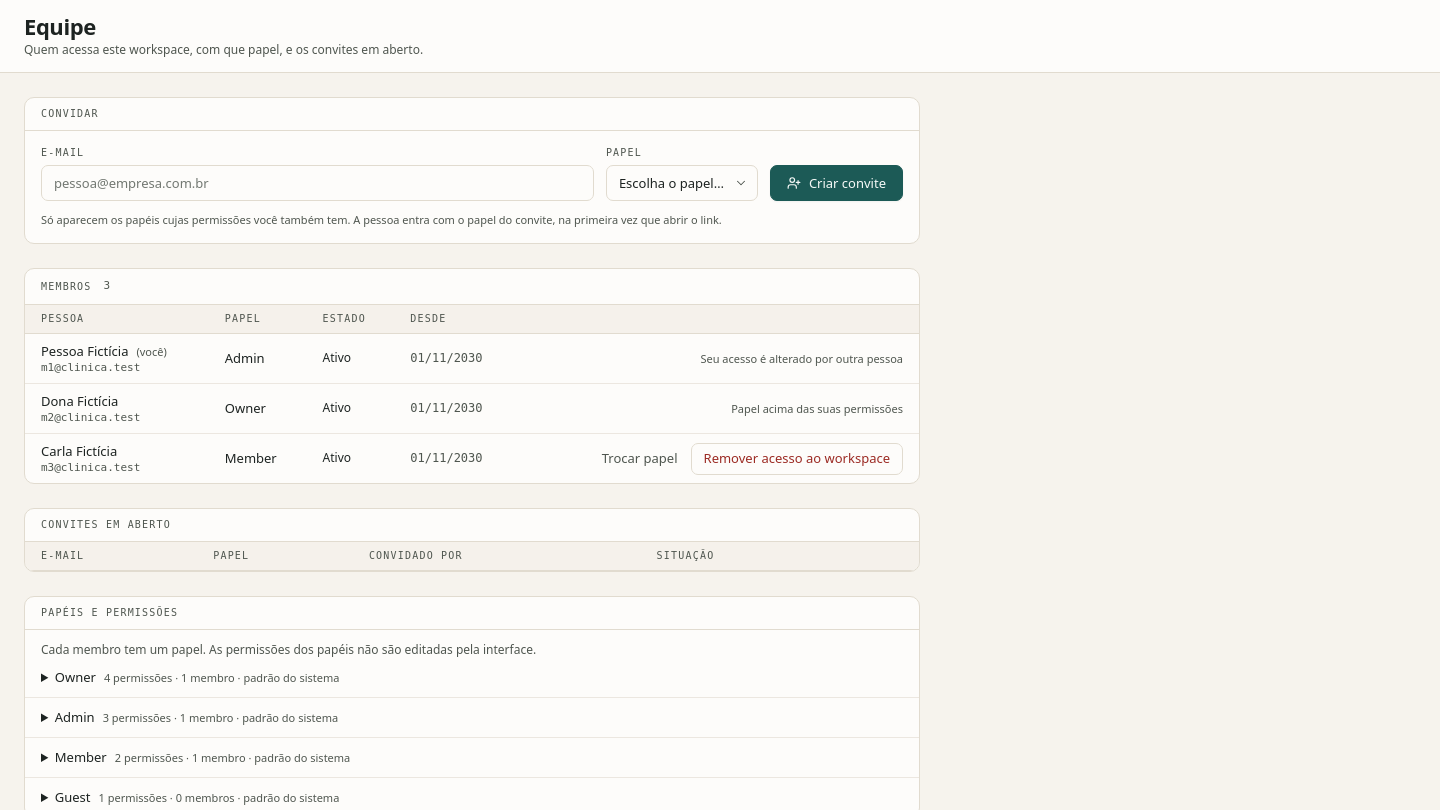
quem administra a equipe › trocar papel mostra o que muda antes de confirmar e manda só o papel escolhido
Click the button with aria-label "Trocar o papel de Carla Fictícia": x=640, y=459 top-left (589, 443), bottom-right (690, 475)
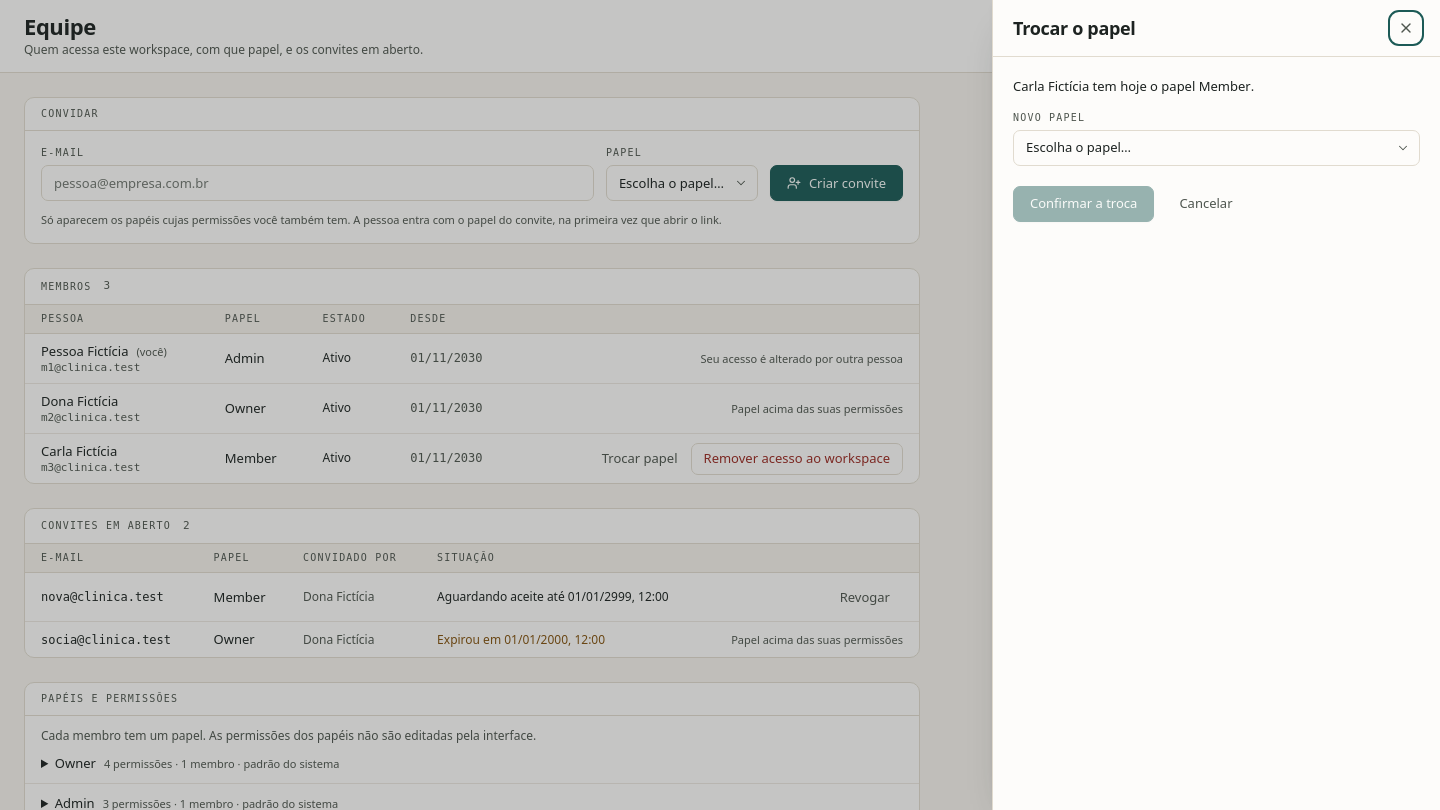
Now the button "Confirmar a troca" is disabled, box top-left (1013, 186), bottom-right (1154, 222)
Select "Guest" in the dropdown labelled "Novo papel": x=1216, y=148 top-left (1013, 130), bottom-right (1420, 166)
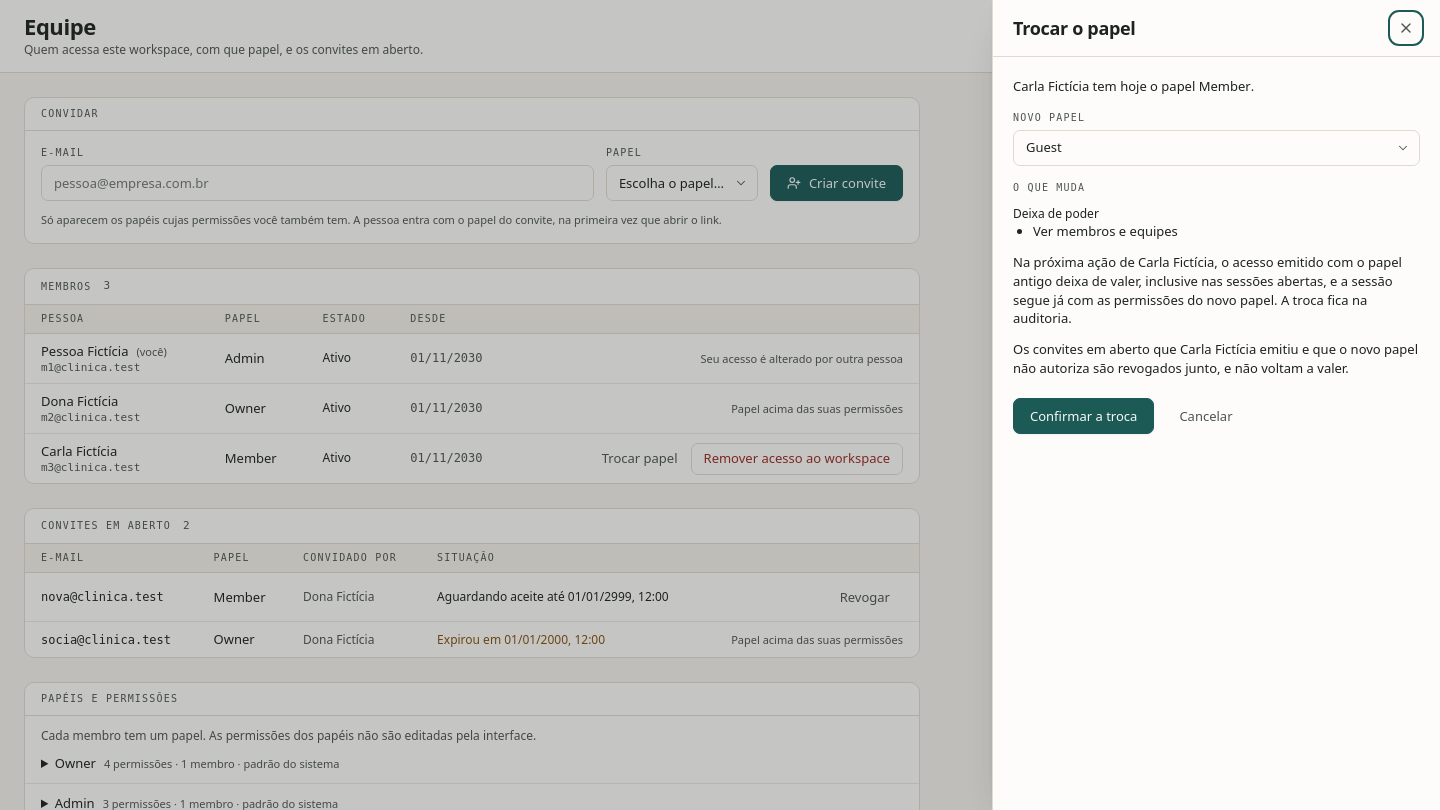
Now the text "Deixa de poder" is shown, box top-left (1013, 205), bottom-right (1099, 222)
Now the list item "Ver membros e equipes" is shown, box top-left (1033, 222), bottom-right (1178, 240)
Now the element with test id "efeito-da-troca" shows "Na próxima ação de Carla Fictícia, o acesso emitido com o papel antigo deixa de valer", box top-left (1013, 182), bottom-right (1420, 378)
Click the button "Confirmar a troca": x=1084, y=416 top-left (1013, 398), bottom-right (1154, 434)
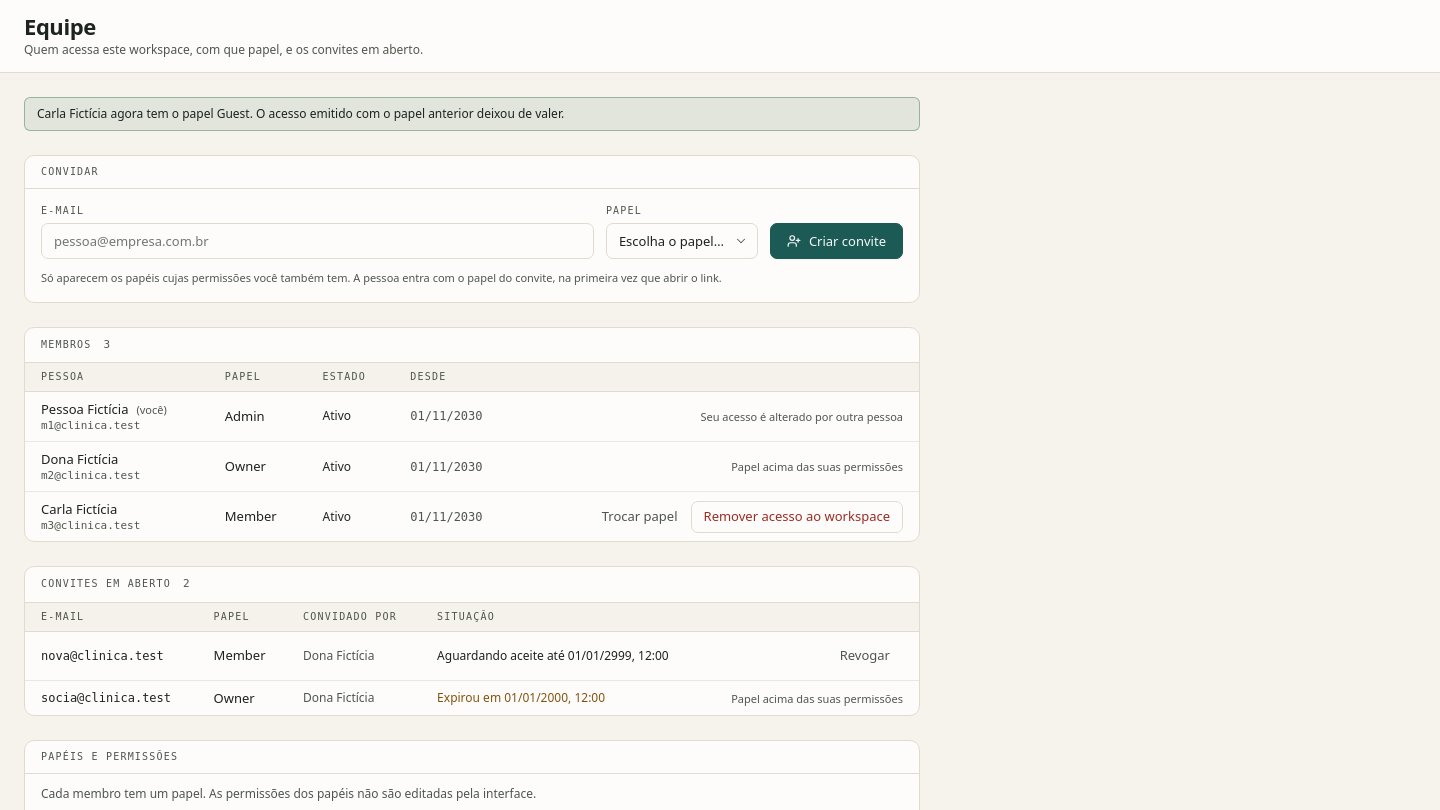
Now the message shows "Carla Fictícia agora tem o papel Guest. O acesso emitido com o papel anterior deixou de valer.", box top-left (37, 105), bottom-right (564, 122)
